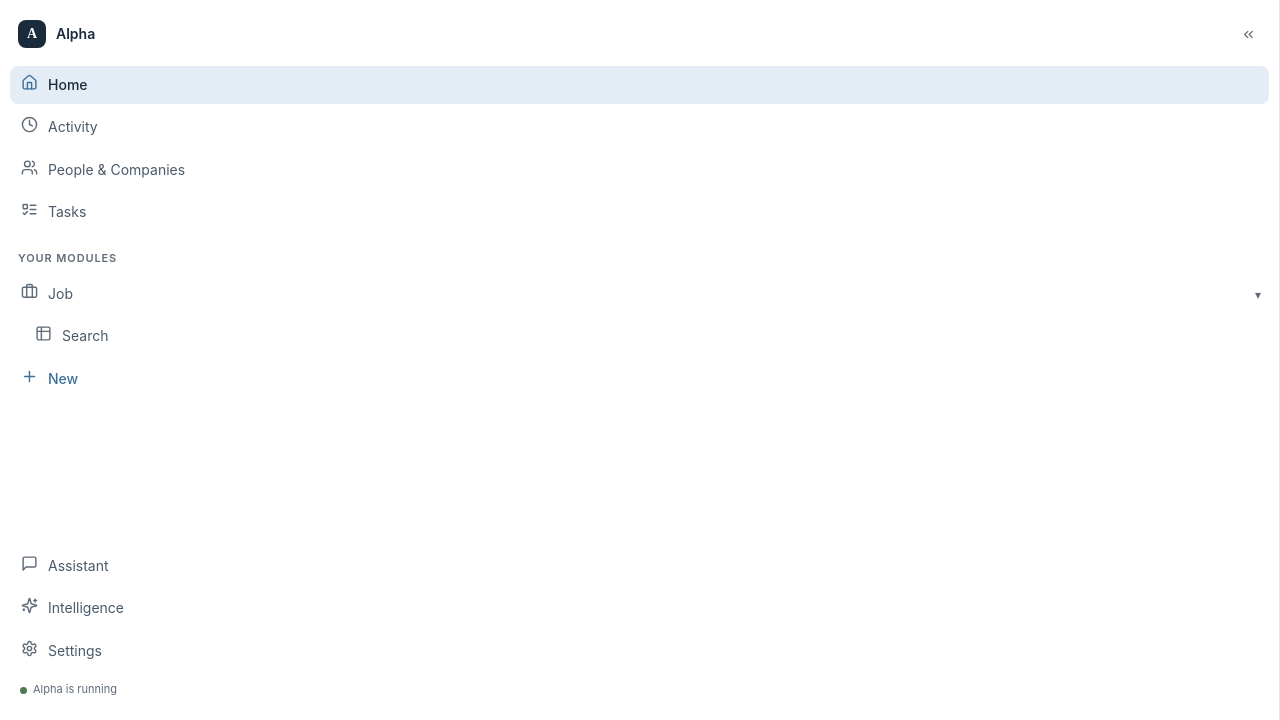
Scenario: modules as a tree › lists the tree on the rail with a fold on each parent
Check: the button "Search" is shown, box [24,317,1269,356]
Click the button named "Fold Job" at x=1258, y=294, box [1247,281,1269,307]
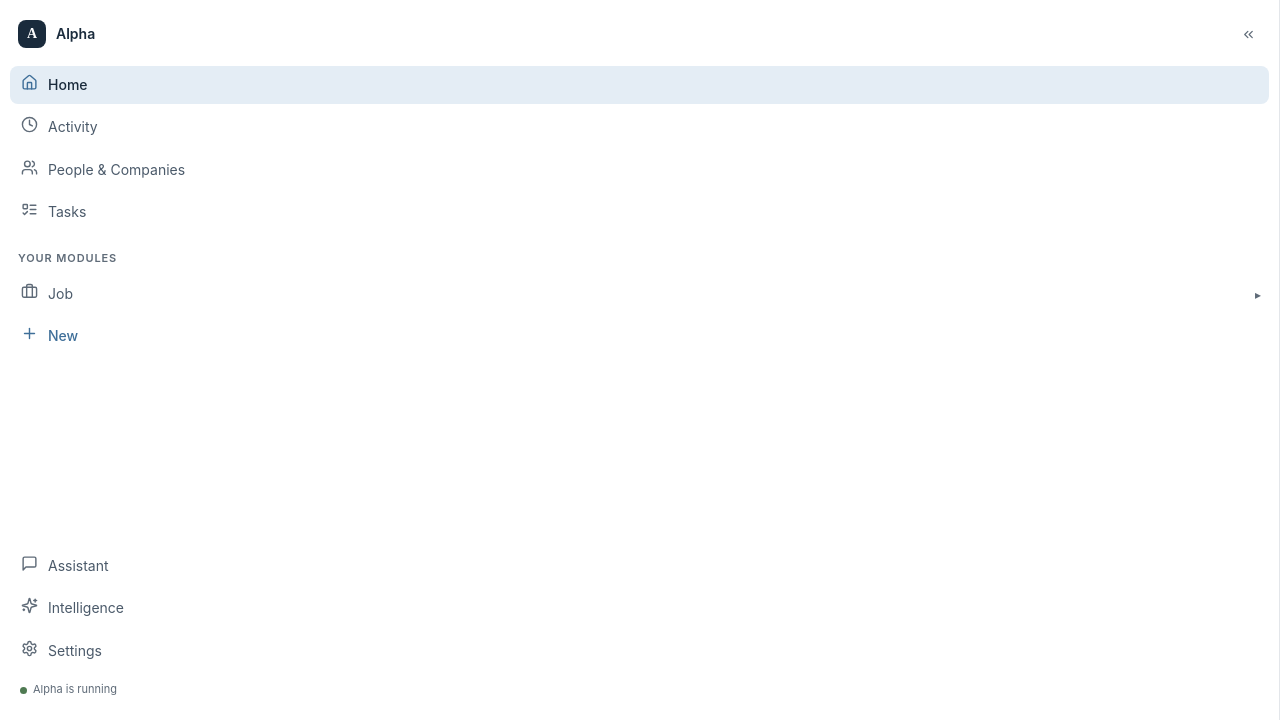
Check: the button "Search" is gone
Click the button named "Unfold Job" at x=1258, y=294, box [1247,281,1269,307]
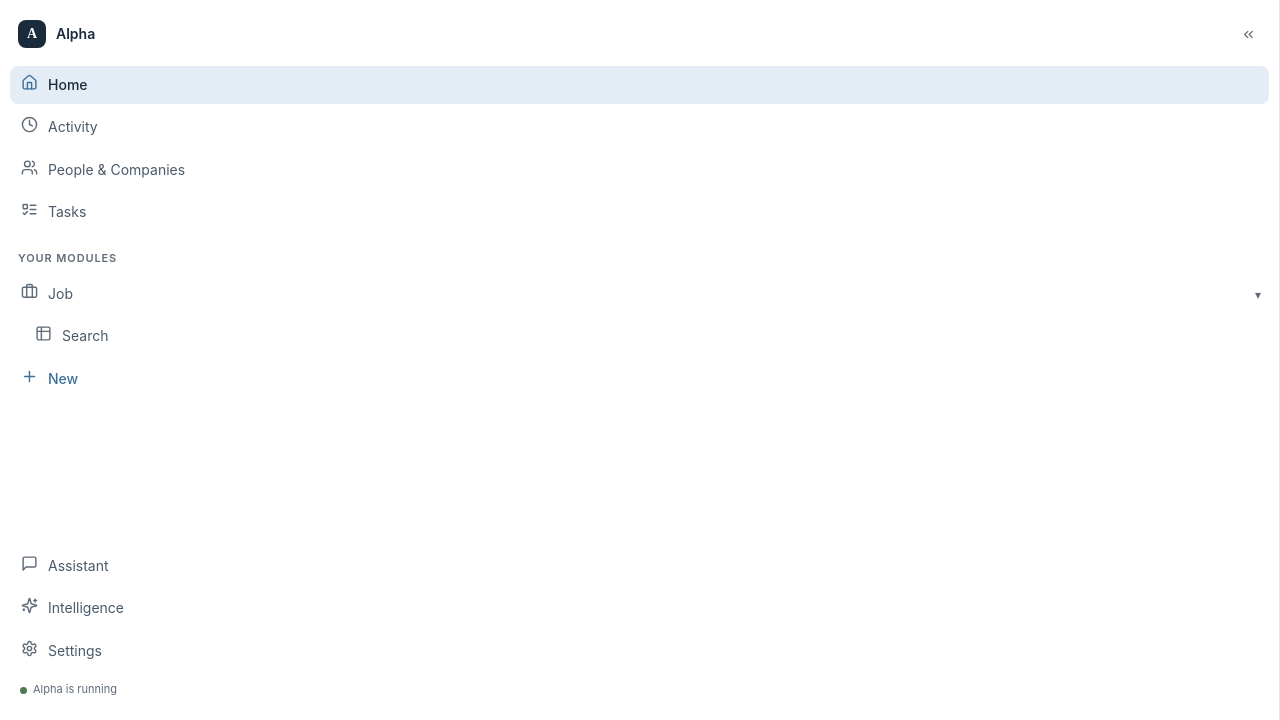
Check: the button "Search" is shown, box [24,317,1269,356]
